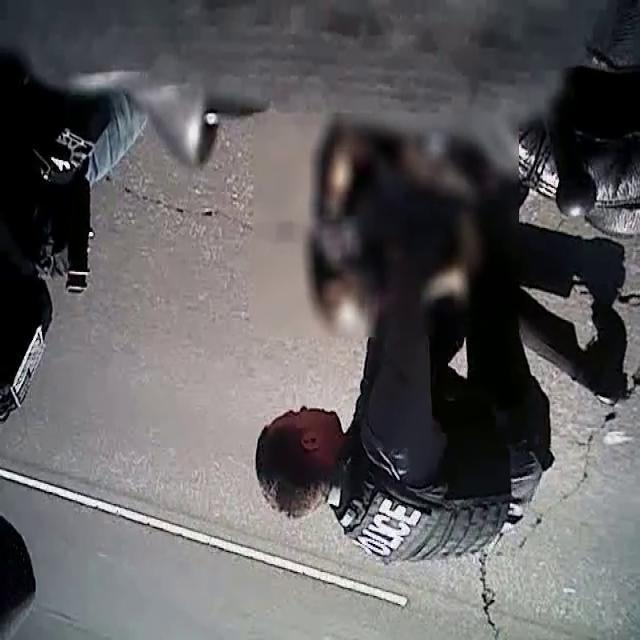gun: (38, 156, 104, 300)
